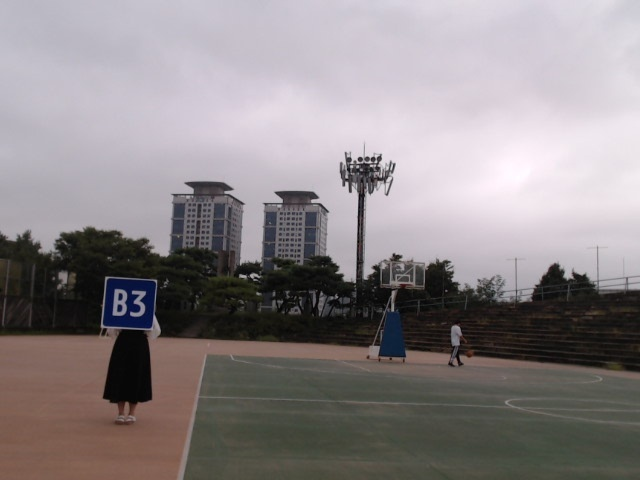delivery_b3: (101, 277, 157, 330)
